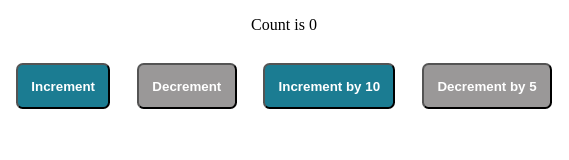
Test: App Component › Should render App with count value as 1 when clicks increment button
Click the button "Increment": (63, 86) [16, 63, 110, 109]
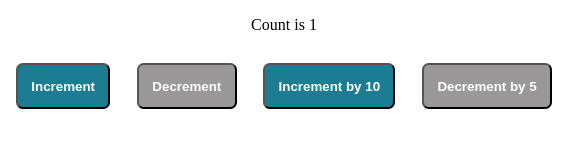
Check: the text "Count is 1" is shown, box [251, 16, 317, 33]
